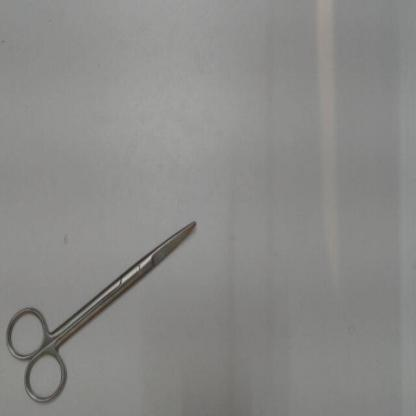Curved Mayo Scissors: (1, 212, 203, 411)
